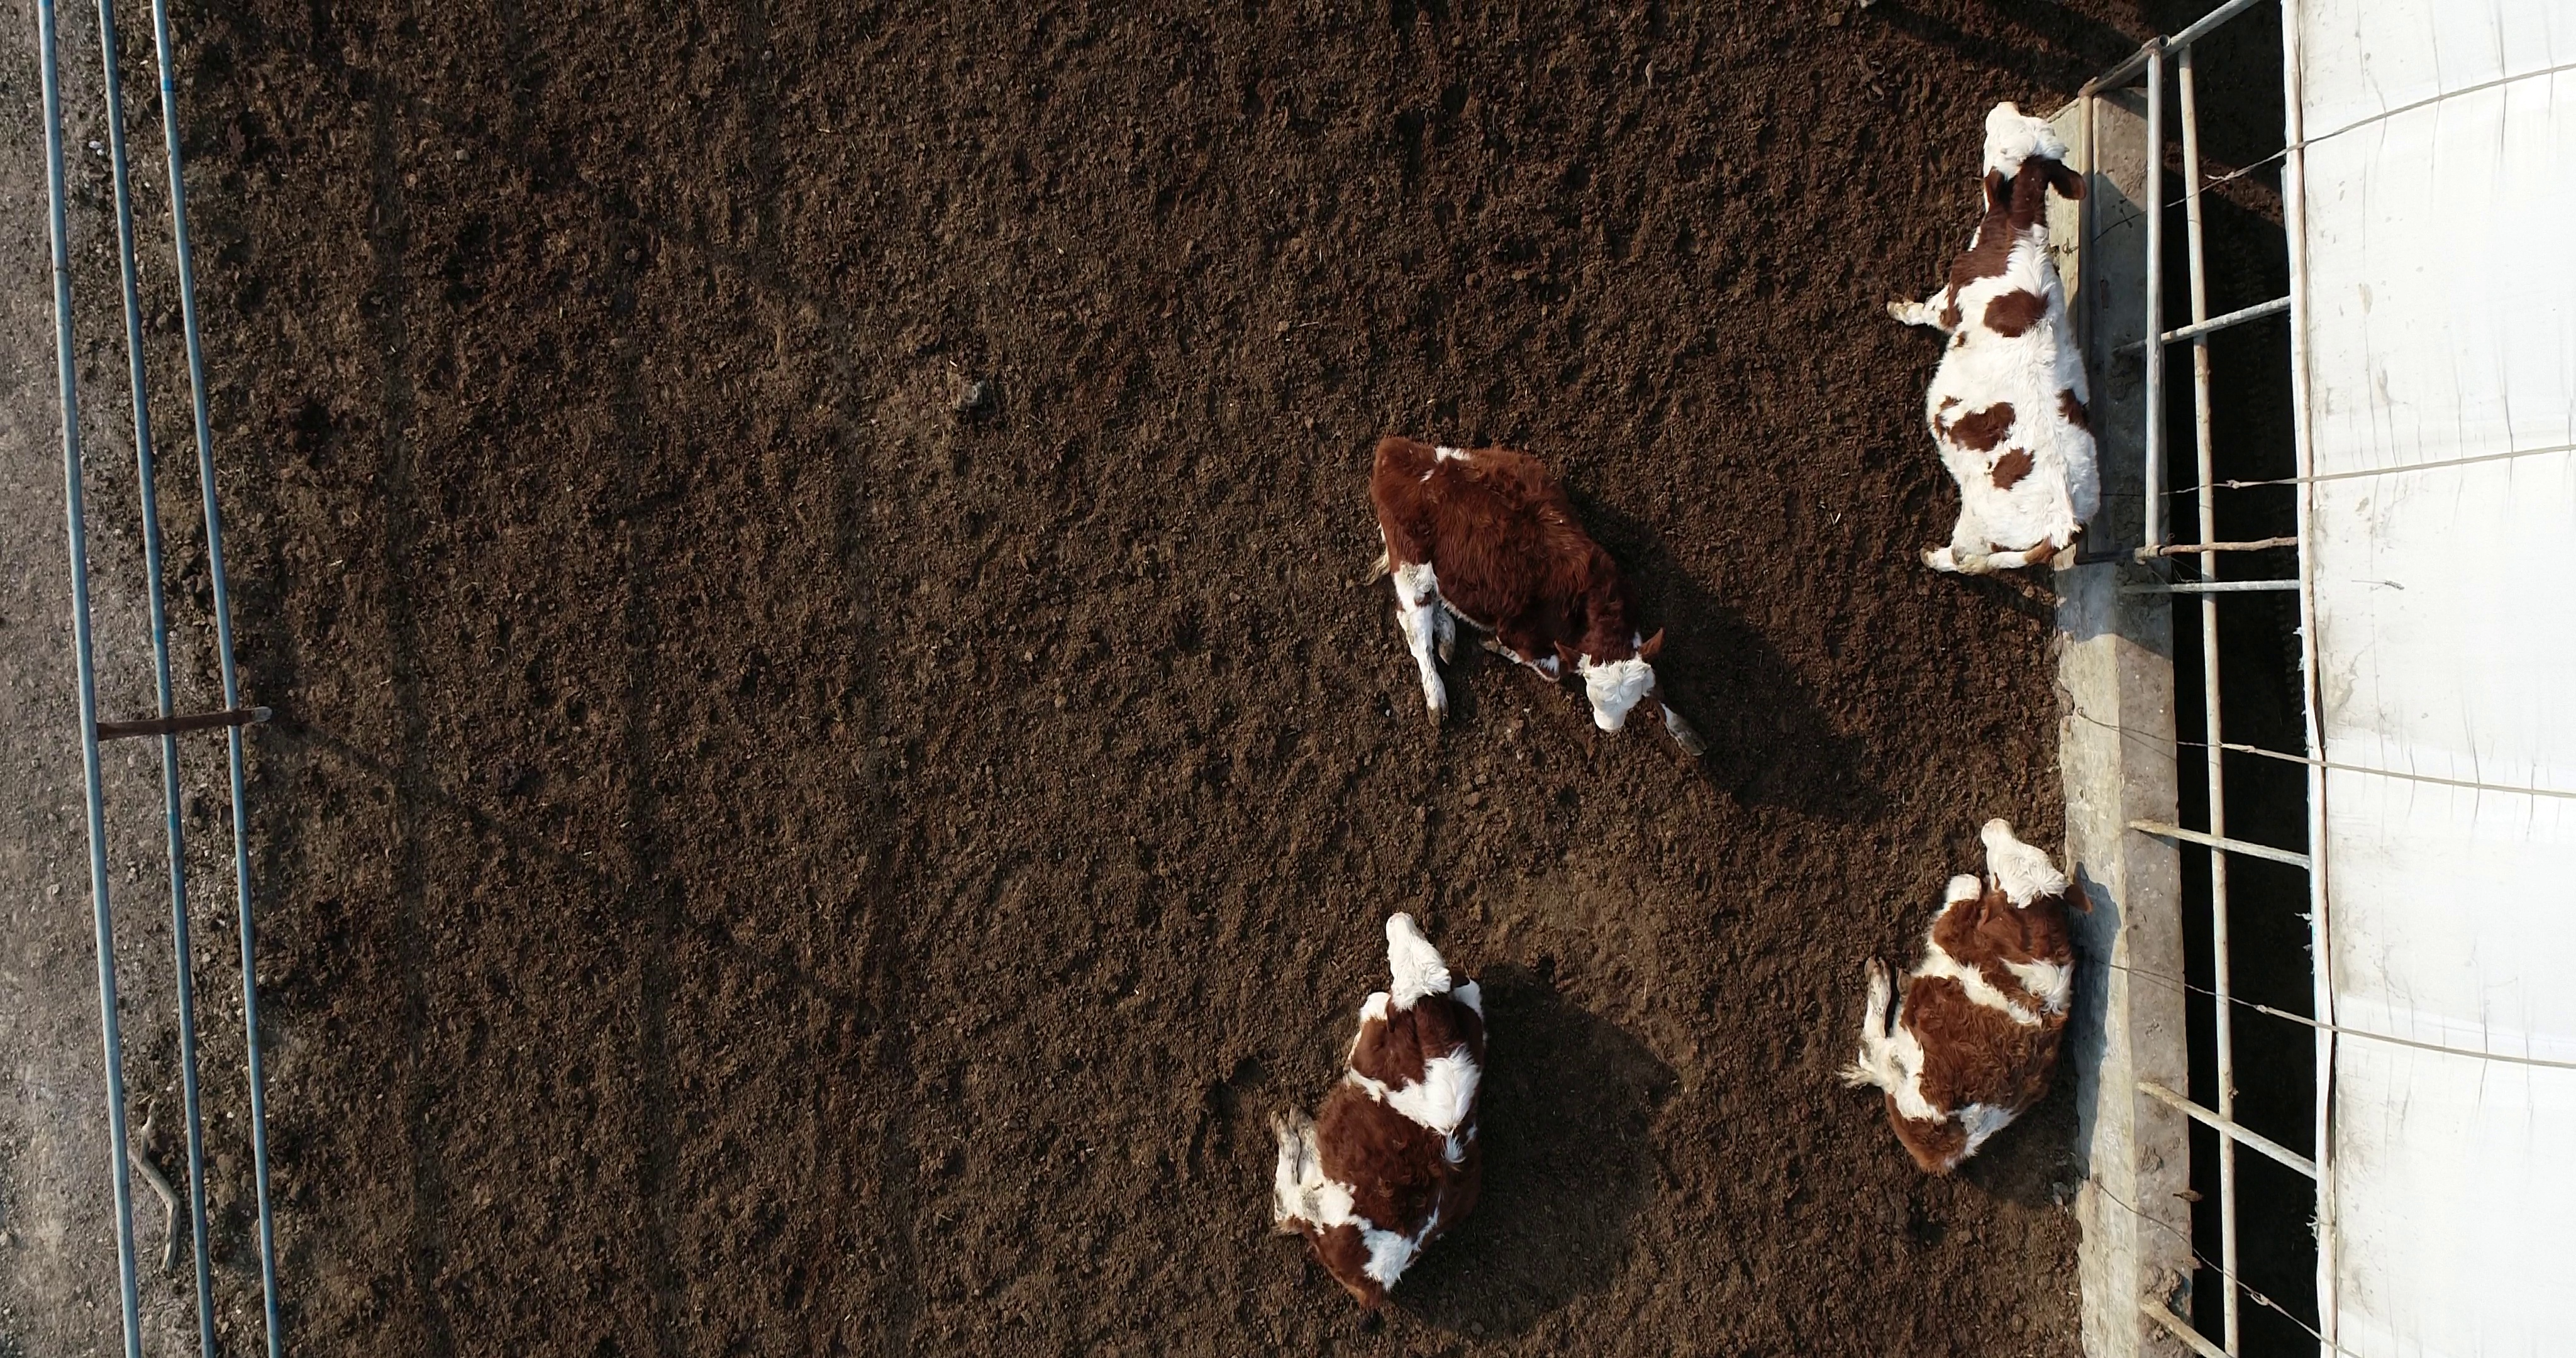cattle: (1361, 429, 1717, 768), (1879, 95, 2111, 581), (1826, 813, 2101, 1182), (1261, 906, 1498, 1317)
